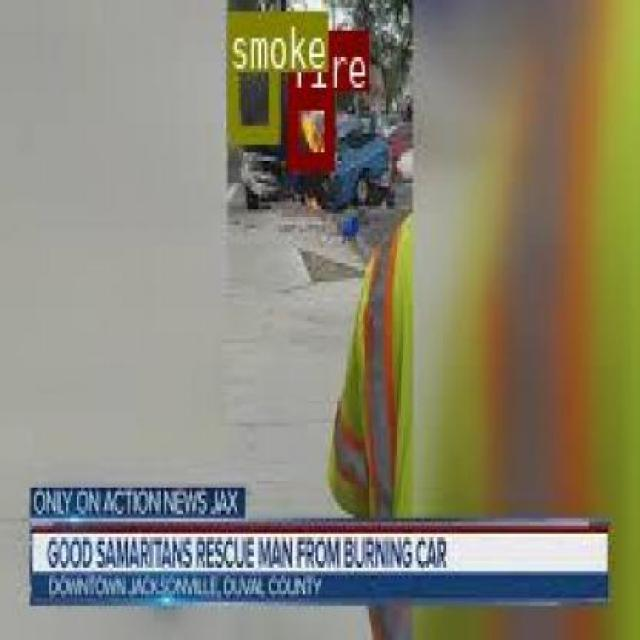Fire: (286, 91, 332, 167)
Smoke: (227, 8, 276, 138)
